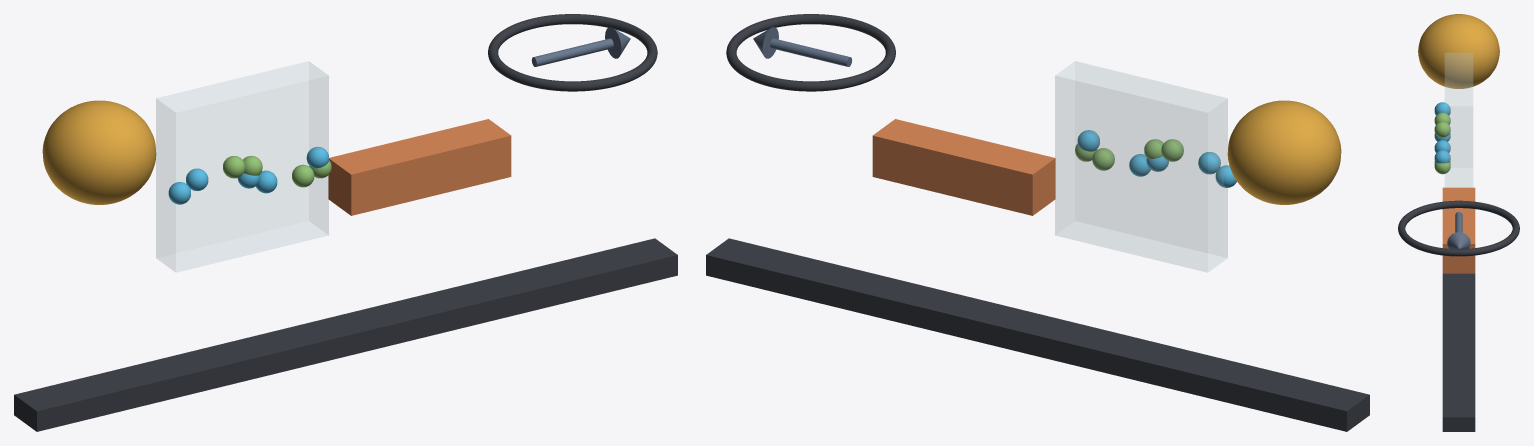
The model's file is physics-sound-medium.glb.
3 views of the same model, side by side, from view 1: azimuth 30°, elevation 25°; view 2: azimuth 150°, elevation 25°; view 3: azimuth 270°, elevation 25° (orthographic). The views are drawn at different scales.
Parts seen in each view (by area): view 1: quiet-stage-reference-base, air-particles-chamber, solid-path-table-block, vibrating-bell-source, vacuum-gap-no-particles, blocked-sound-through-vacuum-shaft; view 2: air-particles-chamber, quiet-stage-reference-base, solid-path-table-block, vibrating-bell-source, vacuum-gap-no-particles, blocked-sound-through-vacuum-shaft; view 3: quiet-stage-reference-base, vibrating-bell-source, air-particles-chamber, vacuum-gap-no-particles, solid-path-table-block, blocked-sound-through-vacuum-head, pressure-particle-3, pressure-particle-8, pressure-particle-1, pressure-particle-5, pressure-particle-7, blocked-sound-through-vacuum-shaft (+1 smaller).
Part boxes in pixels (x1=…): quiet-stage-reference-base: x1=14, y1=238, x2=677, y2=431; air-particles-chamber: x1=156, y1=61, x2=328, y2=272; solid-path-table-block: x1=328, y1=119, x2=511, y2=215; vibrating-bell-source: x1=42, y1=100, x2=156, y2=204; vacuum-gap-no-particles: x1=488, y1=14, x2=657, y2=91; blocked-sound-through-vacuum-shaft: x1=531, y1=38, x2=613, y2=66; air-particles-chamber: x1=1055, y1=61, x2=1227, y2=272; quiet-stage-reference-base: x1=706, y1=238, x2=1369, y2=431; solid-path-table-block: x1=872, y1=119, x2=1055, y2=215; vibrating-bell-source: x1=1227, y1=100, x2=1341, y2=204; vacuum-gap-no-particles: x1=726, y1=14, x2=895, y2=91; blocked-sound-through-vacuum-shaft: x1=770, y1=38, x2=852, y2=66; quiet-stage-reference-base: x1=1442, y1=273, x2=1475, y2=431; vibrating-bell-source: x1=1418, y1=14, x2=1499, y2=88; air-particles-chamber: x1=1445, y1=53, x2=1472, y2=187; vacuum-gap-no-particles: x1=1398, y1=200, x2=1519, y2=256; solid-path-table-block: x1=1442, y1=187, x2=1475, y2=273; blocked-sound-through-vacuum-head: x1=1447, y1=232, x2=1470, y2=248; pressure-particle-3: x1=1434, y1=121, x2=1450, y2=137; pressure-particle-8: x1=1434, y1=150, x2=1450, y2=163; pressure-particle-1: x1=1434, y1=102, x2=1450, y2=115; pressure-particle-5: x1=1434, y1=140, x2=1450, y2=152; pressure-particle-7: x1=1434, y1=162, x2=1450, y2=174; blocked-sound-through-vacuum-shaft: x1=1455, y1=212, x2=1462, y2=232.
Size of what is drawn, in the model's own units: 2.6 by 1.16 by 0.596.
